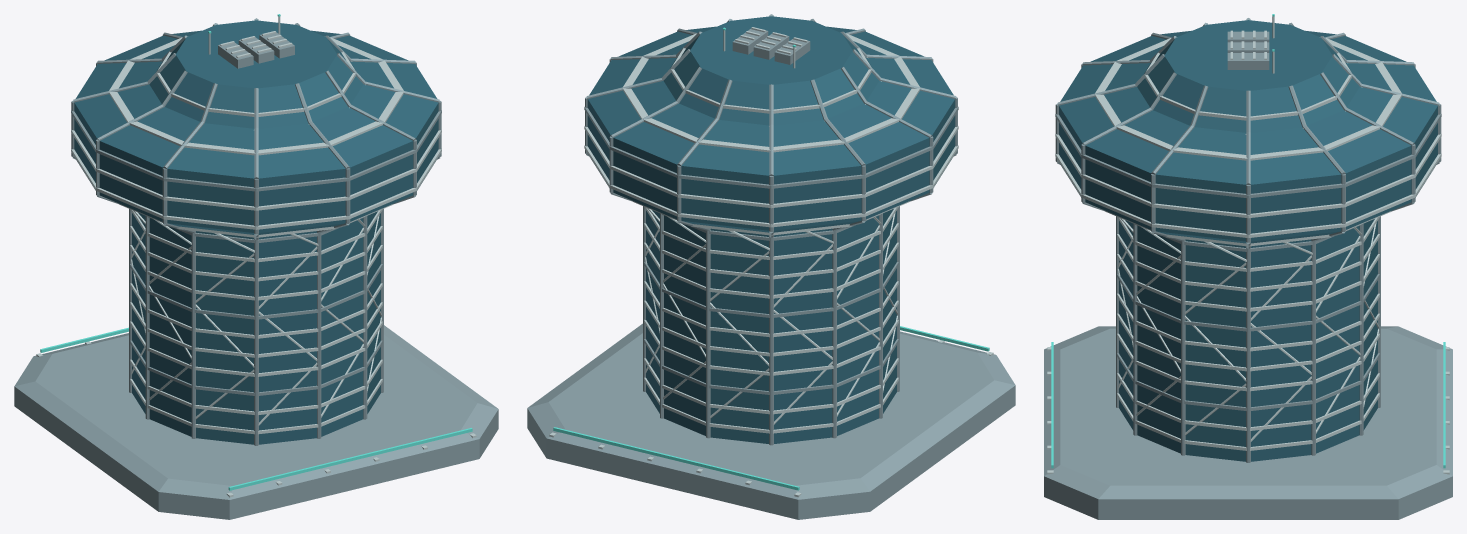
File: Orbital.fbx
3 views of the same model, side by side, from view 1: azimuth 30°, elevation 25°; view 2: azimuth 150°, elevation 25°; view 3: azimuth 270°, elevation 25° (orthographic). The views are drawn at different scales.
Parts seen in each view (by area): view 1: Far FutureGlass, Near FutureShell, Near FutureMetal, Near FutureNeon; view 2: Far FutureGlass, Near FutureShell, Near FutureMetal, Near FutureNeon; view 3: Far FutureGlass, Near FutureShell, Near FutureMetal, Near FutureNeon.
Part boxes in pixels (left/top/right/bottom): Far FutureGlass: left=74, top=20, right=438, bottom=444; Near FutureShell: left=14, top=18, right=498, bottom=519; Near FutureMetal: left=36, top=16, right=476, bottom=497; Near FutureNeon: left=40, top=14, right=472, bottom=490; Far FutureGlass: left=587, top=16, right=955, bottom=443; Near FutureShell: left=527, top=14, right=1015, bottom=519; Near FutureMetal: left=549, top=27, right=993, bottom=497; Near FutureNeon: left=553, top=27, right=989, bottom=490; Far FutureGlass: left=1059, top=20, right=1437, bottom=461; Near FutureShell: left=1044, top=18, right=1452, bottom=519; Near FutureMetal: left=1047, top=16, right=1449, bottom=474; Near FutureNeon: left=1051, top=14, right=1445, bottom=468.
Size of what is drawn, in the model's own units: 98 by 106 by 98.
